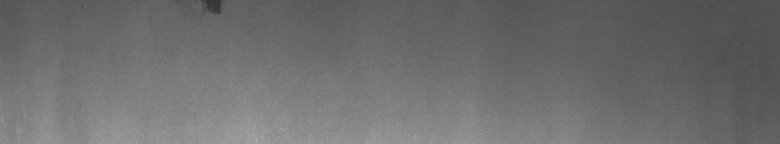fi: (200, 4, 228, 24)
